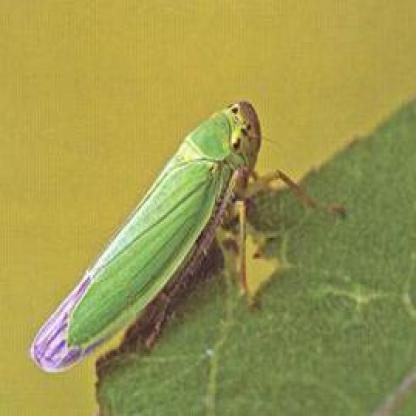Green-Leafhopper: (33, 88, 349, 377)
